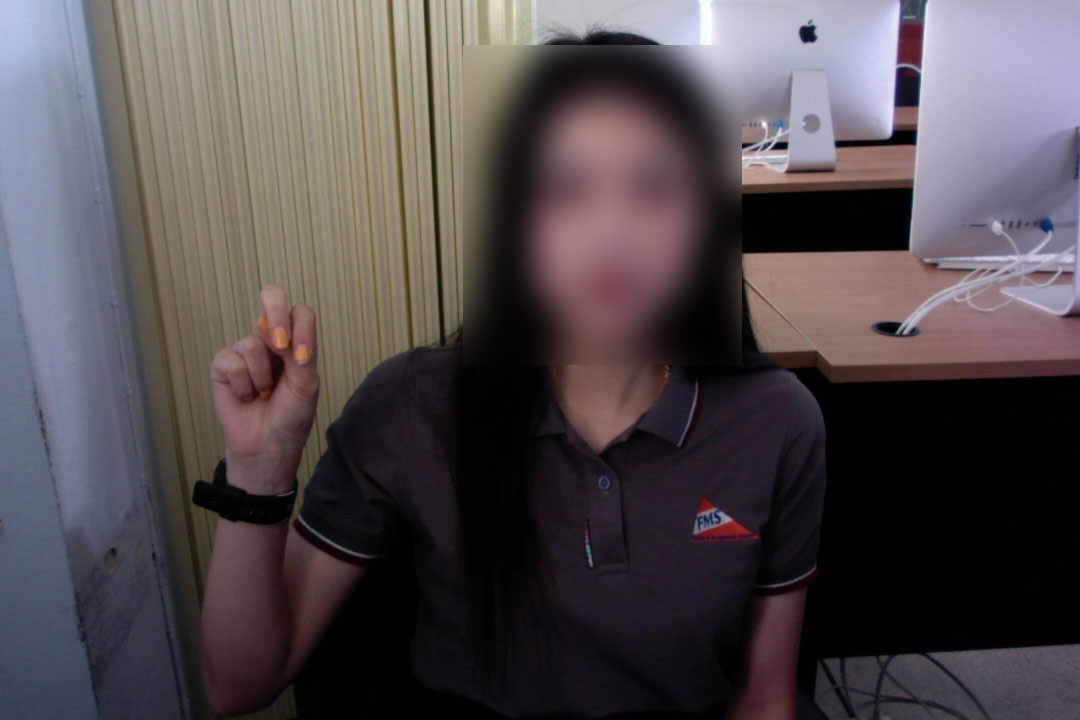nor: (203, 269, 326, 491)
